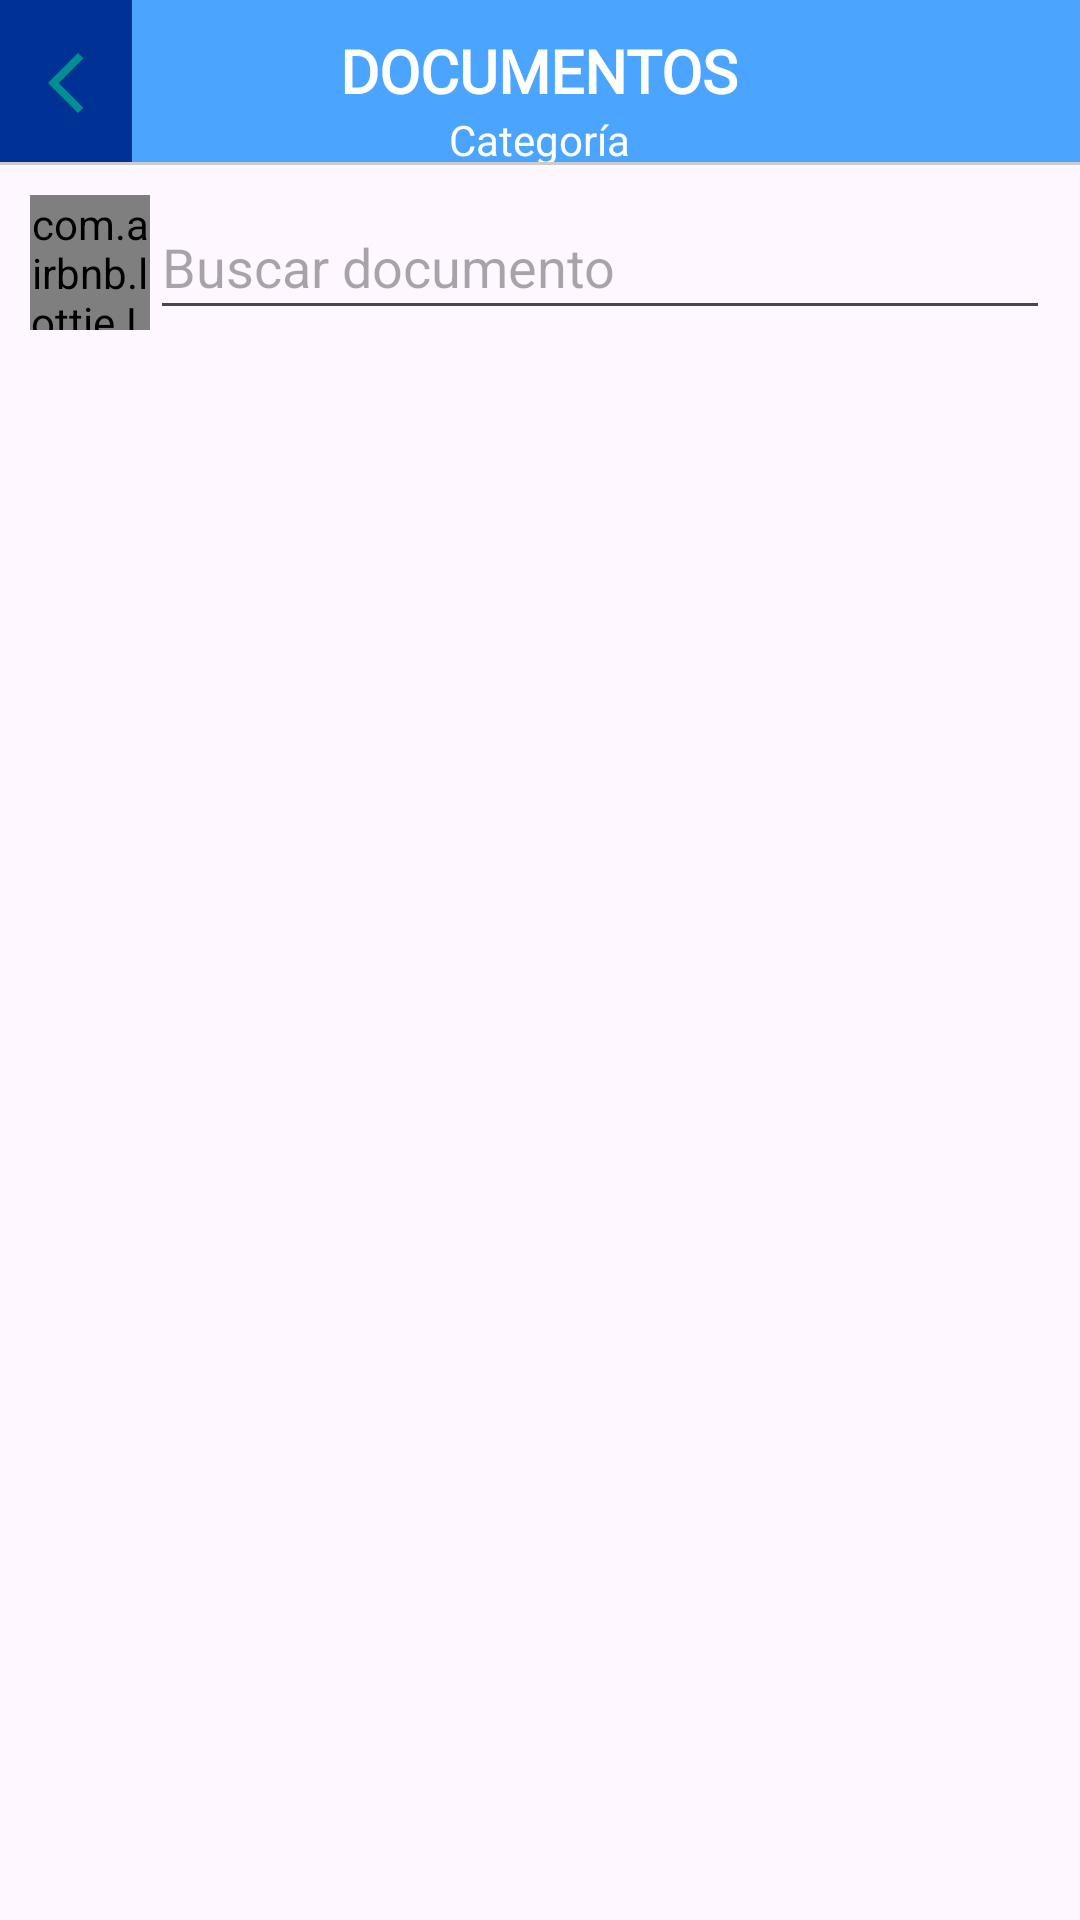

Icon click points for this 1080 × 1920 phone screenshot, format point (x, y):
regresar: point (66, 82)
